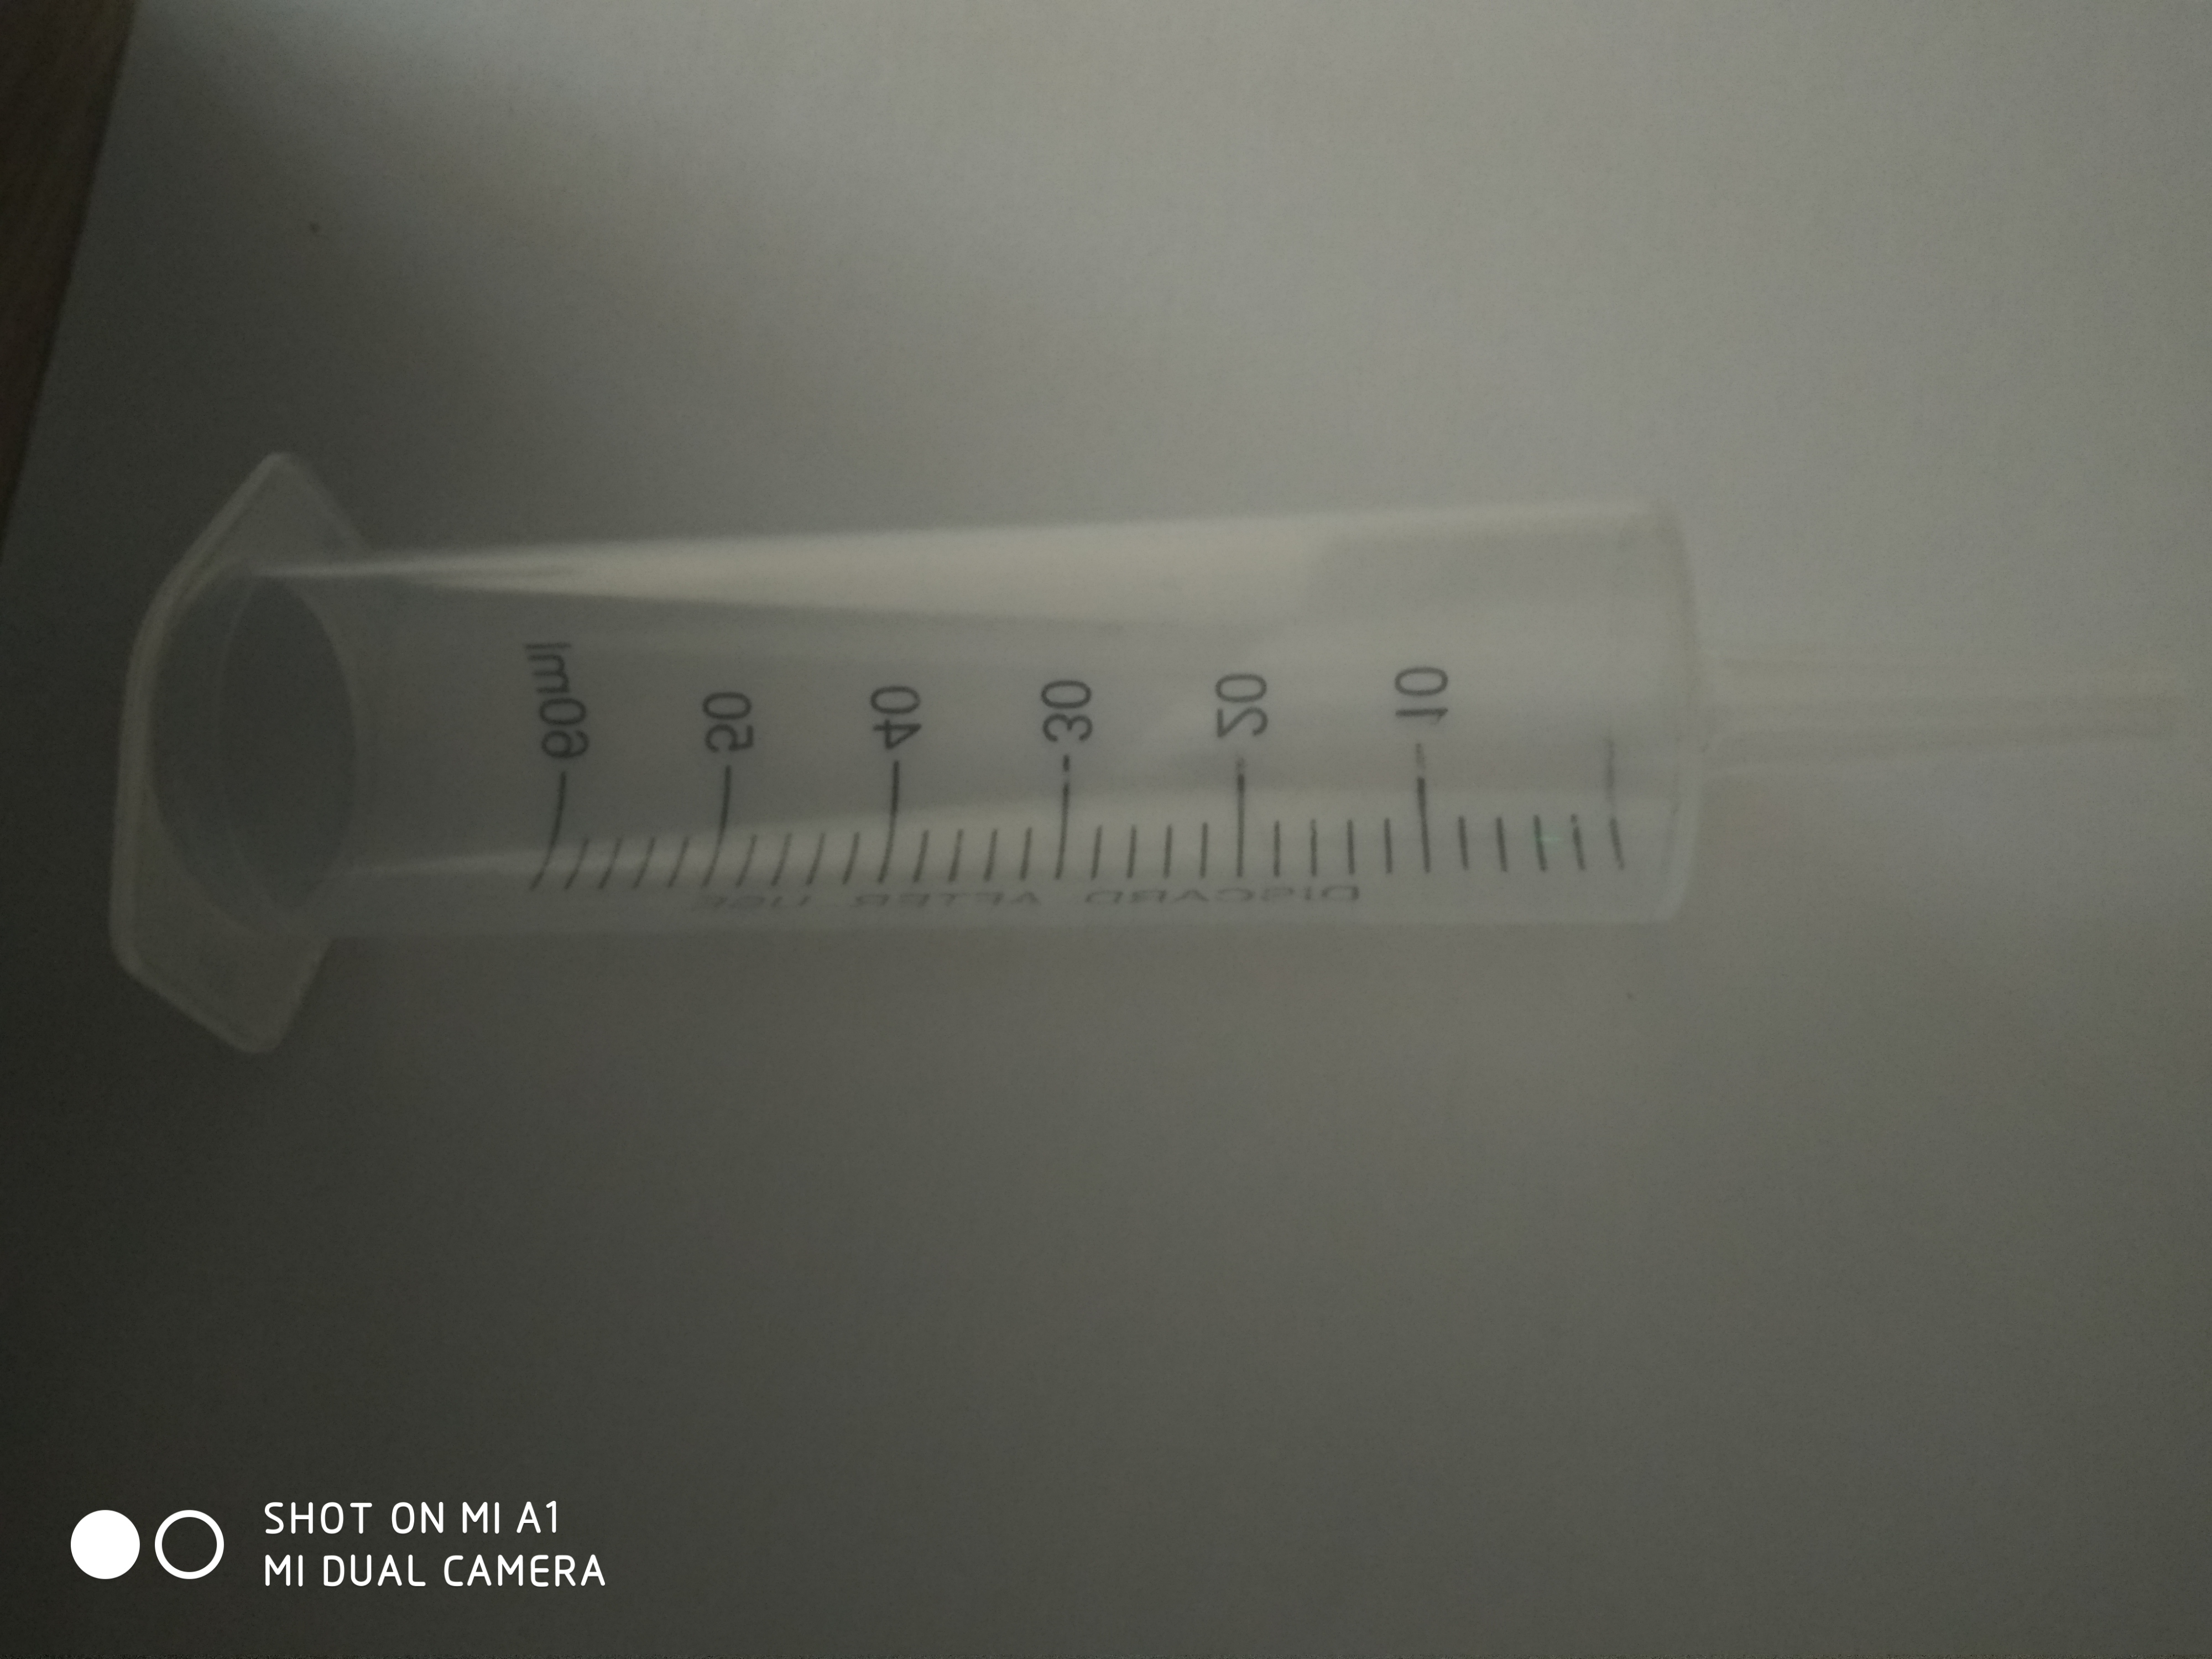syringe: (89, 436, 2207, 1065)
